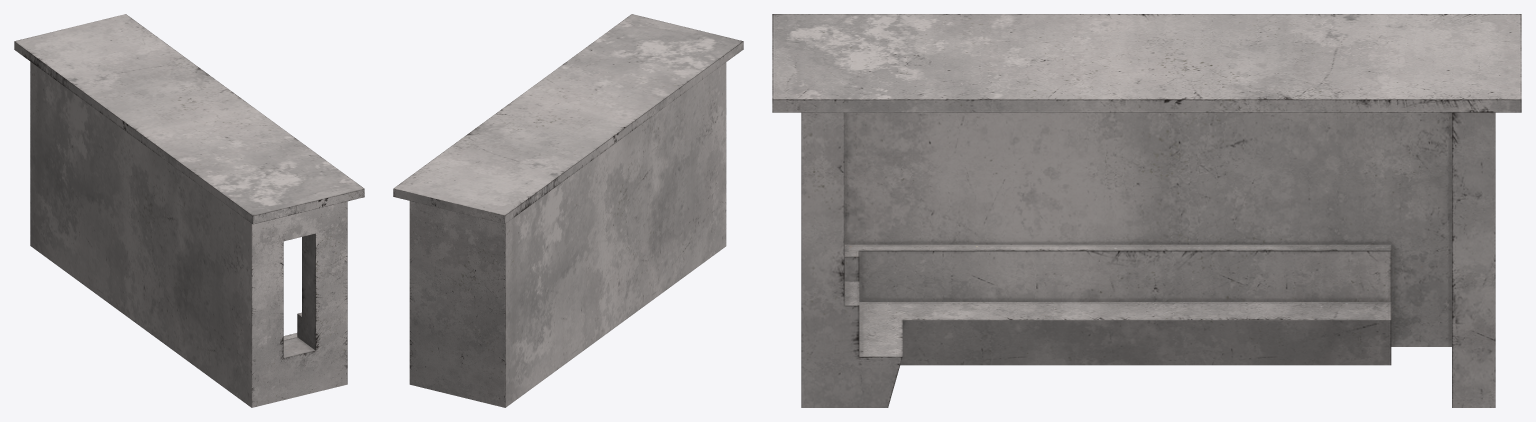
Rendered from soviet_bus_stop_2.glb.
The picture shows the model from 3 angles, left to right: view 1: azimuth 30°, elevation 25°; view 2: azimuth 150°, elevation 25°; view 3: azimuth 270°, elevation 25°; orthographic projection. The views are drawn at different scales.
Visible parts, largest first — view 1: Cube.001; view 2: Cube.001; view 3: Cube.001.
Part boxes in pixels (bbox=[...]): Cube.001: bbox=[14, 14, 364, 407]; Cube.001: bbox=[393, 14, 743, 407]; Cube.001: bbox=[772, 14, 1521, 407].
Bounding box in the file's own units: 1.4 × 2.4 × 5.18.
1 material, 1 textured.
